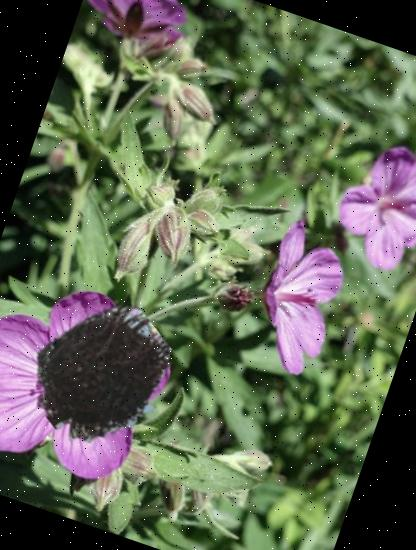Rambutan: (13, 285, 192, 464)
